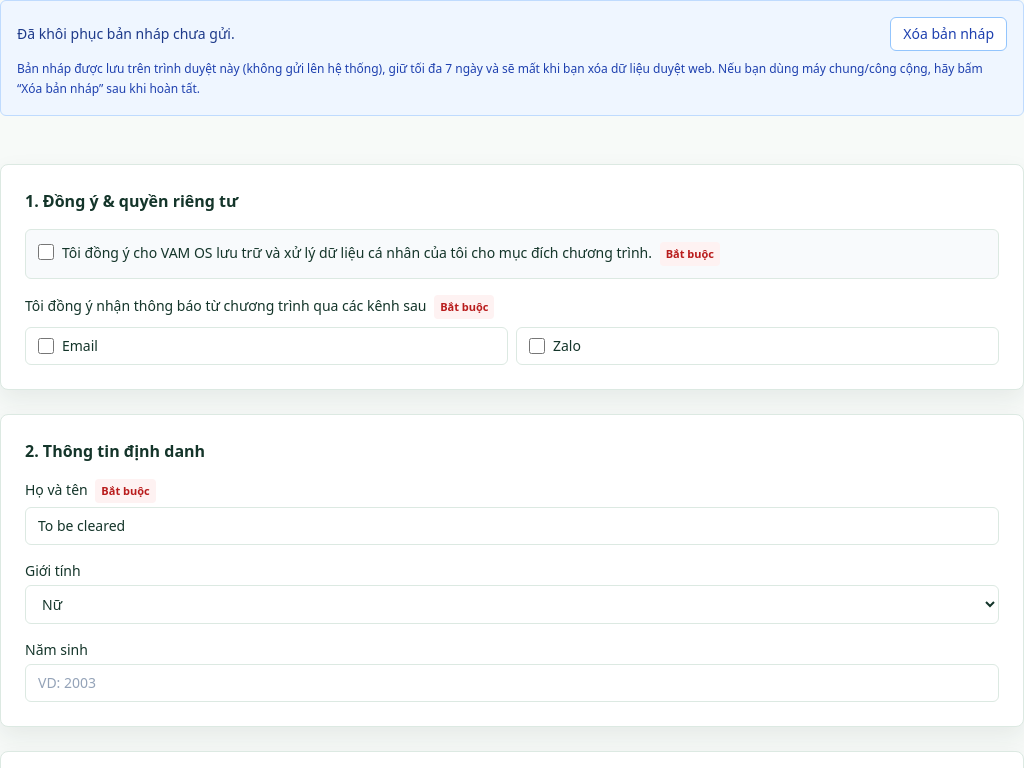
Scenario: clearing › 14. Xóa bản nháp empties storage and resets the visible fields
Expected: the field labelled "Họ và tên Bắt buộc" holds "To be cleared", [25,507,999,545]
Step 1. Click the button "Xóa bản nháp" → (949, 34), box [890,17,1007,51]
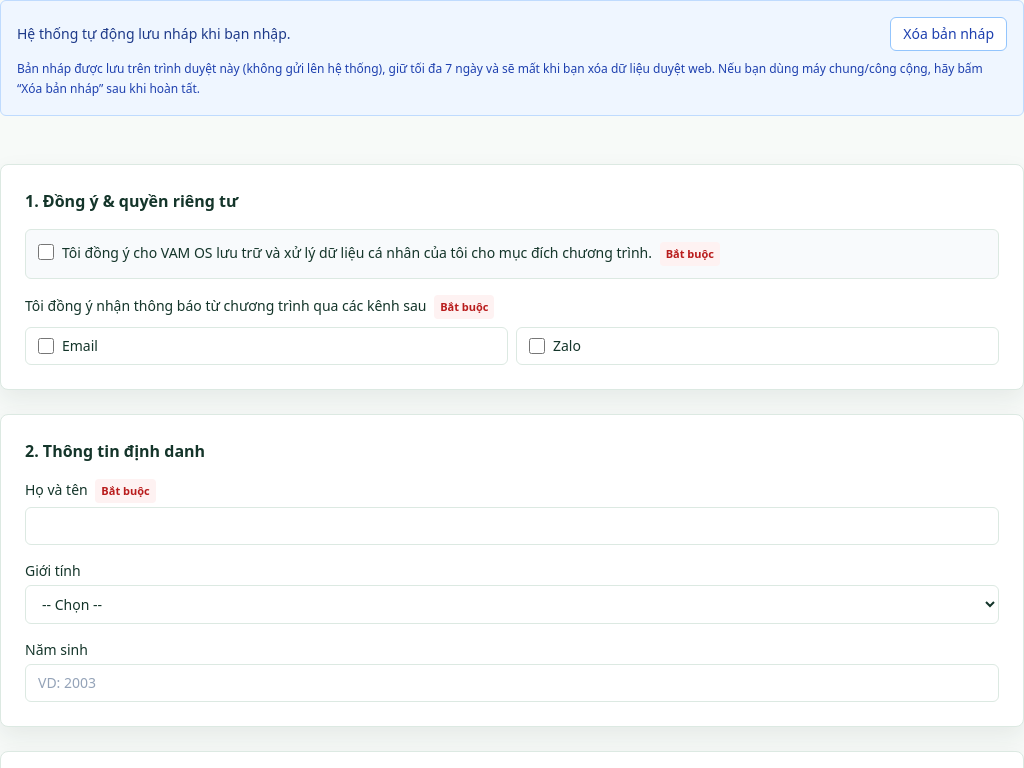
Now the field labelled "Họ và tên Bắt buộc" is empty, box [25,507,999,545]
Now the text "Đã khôi phục bản nháp chưa gửi." is gone
